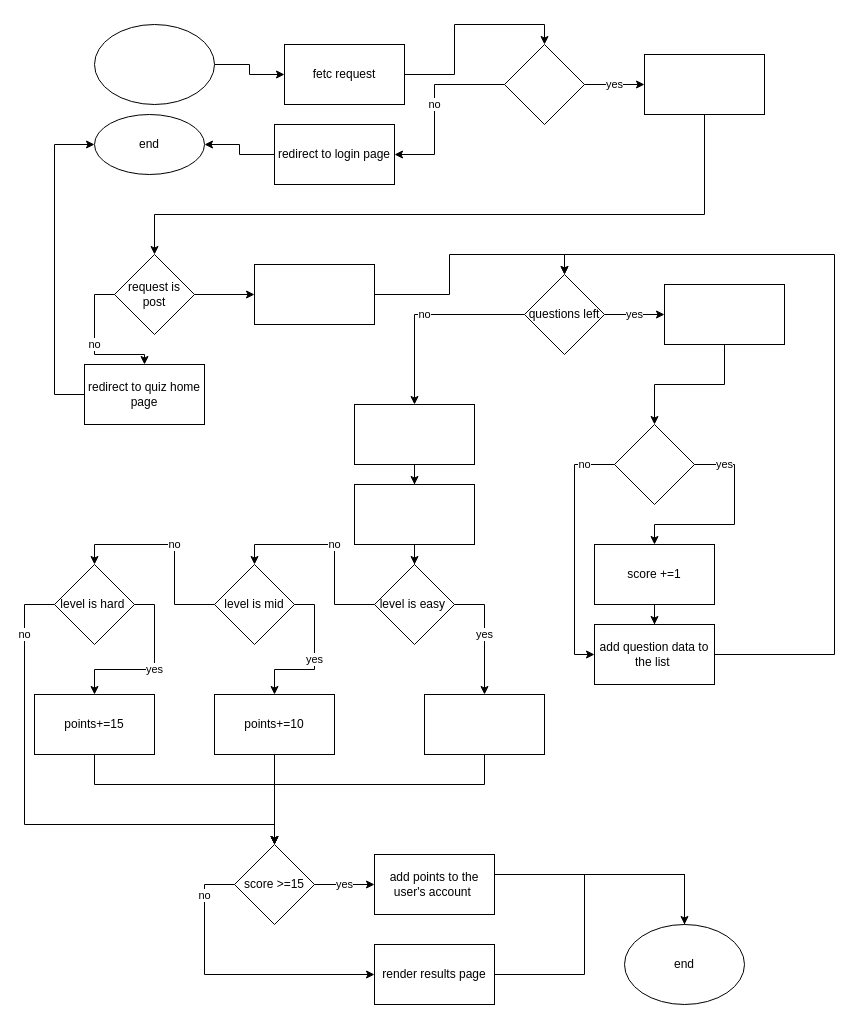
Image size: 860x1030. Some labels were removed from this diagram. The centre of each missing label's shape, as x and y in pixels:
"delete quiz data from session" goes at point (414, 434).
"get level from session" goes at point (414, 514).
"get quetsion , user answer and correct answer" goes at point (724, 314).
"get the number of all unread notifications" goes at point (704, 84).
"get the quiz data from session" goes at point (314, 294).
"logged in" goes at point (544, 84).
"points+=5" goes at point (484, 724).
"start" goes at point (154, 64).
"user answer is correct" goes at point (654, 464).
